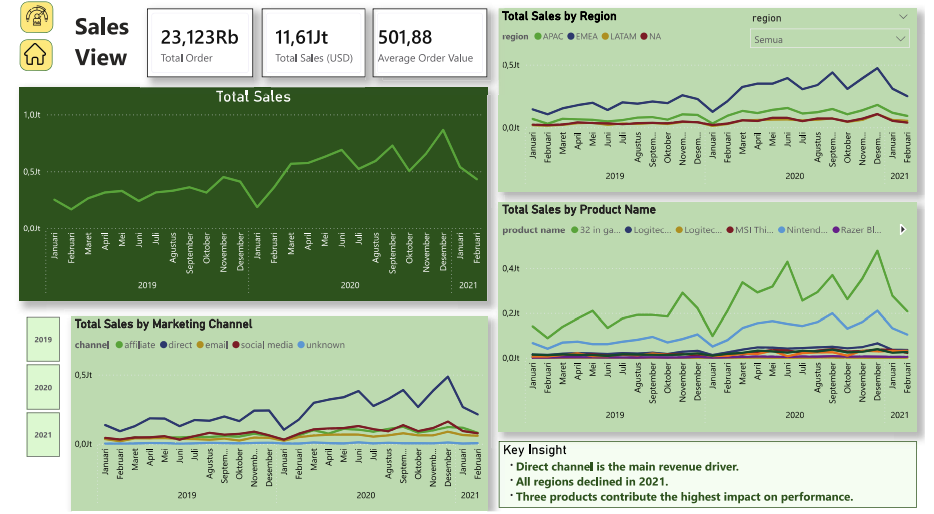

This screenshot's page, from the dashboard's own definition file:
{"tool":"powerbi","page":{"name":"Sales","canvas":[1280,720],"ordinal":1},"visuals":[{"type":"lineChart","title":"Total Sales","fields":{"Category":["orders_cleaned_.purchase_year","orders_cleaned_.purchase_date_cleaned.Variasi.Hierarki Tanggal.Bulan"],"Y":["Sum(orders_cleaned_.price ($))"]},"box":[16,128,652.8,299.2],"z":0},{"type":"shape","box":[17.1,8,46.4,43.8],"z":1000,"group":"g1"},{"type":"shape","box":[16,60.8,46.4,43.8],"z":1000,"group":"g2"},{"type":"lineChart","title":"Total Sales by Marketing Channel","fields":{"Category":["orders_cleaned_.purchase_year","orders_cleaned_.purchase_date_cleaned.Variasi.Hierarki Tanggal.Bulan"],"Y":["Sum(orders_cleaned_.price ($))"],"Series":["orders_cleaned_.channel_cleaned"]},"box":[88,448,580.8,272],"z":1000},{"type":"lineChart","title":"Total Sales by Region","fields":{"Category":["orders_cleaned_.purchase_year","orders_cleaned_.purchase_date_cleaned.Variasi.Hierarki Tanggal.Bulan"],"Y":["Sum(orders_cleaned_.price ($))"],"Series":["orders_cleaned_.region"]},"box":[684.8,17.6,584,256],"z":2000},{"type":"image","box":[14.4,12.7,51.2,30.3],"z":2003,"group":"g1"},{"type":"lineChart","title":"Total Sales by Product Name","fields":{"Category":["orders_cleaned_.purchase_year","orders_cleaned_.purchase_date_cleaned.Variasi.Hierarki Tanggal.Bulan"],"Y":["Sum(orders_cleaned_.price ($))"],"Series":["orders_cleaned_.product_name_cleaned"]},"box":[684.8,288,584,320],"z":3000},{"type":"cardVisual","fields":{"Data":["CountNonNull(orders_cleaned_.order_id)"]},"box":[193.6,17.6,148.8,96],"z":4000},{"type":"cardVisual","fields":{"Data":["Sum(orders_cleaned_.price ($))"]},"box":[353.6,17.6,145.6,96],"z":5000},{"type":"cardVisual","fields":{"Data":["Avg(orders_cleaned_.price ($))"]},"box":[508.8,17.6,160,96],"z":6000},{"type":"slicer","fields":{"Values":["orders_cleaned_.purchase_date_cleaned.Variasi.Hierarki Tanggal.Tahun"]},"box":[0,441.6,96,209.6],"z":7000},{"type":"slicer","fields":{"Values":["orders_cleaned_.region"]},"box":[1025.6,17.6,243.2,56],"z":8000},{"type":"textbox","box":[88,14.4,158.4,100.8],"z":9000},{"type":"group","id":"g1","title":"Grup 1","box":[14.4,8,49.6,49.6],"z":10000},{"type":"image","box":[23.2,63,29.3,36.6],"z":10002,"group":"g2"},{"type":"group","id":"g2","title":"Grup 1","box":[16,60.8,46.4,44.8],"z":11000},{"type":"textbox","title":"Key Insight","box":[684.8,622.4,584,92.8],"z":12000}]}

Visuals, with their boxes in screenshot pixels (x1, y1, x2, y2), scaled from the page's 1280x720 canvas onto the 934x514 screenshot:
"Total Sales" lineChart: bbox=[12, 91, 488, 305]
shape: bbox=[12, 6, 46, 37]
shape: bbox=[12, 43, 46, 75]
"Total Sales by Marketing Channel" lineChart: bbox=[64, 320, 488, 513]
"Total Sales by Region" lineChart: bbox=[500, 13, 926, 195]
image: bbox=[11, 9, 48, 31]
"Total Sales by Product Name" lineChart: bbox=[500, 206, 926, 434]
cardVisual - CountNonNull(orders_cleaned_.order_id): bbox=[141, 13, 250, 81]
cardVisual - Sum(orders_cleaned_.price ($)): bbox=[258, 13, 364, 81]
cardVisual - Avg(orders_cleaned_.price ($)): bbox=[371, 13, 488, 81]
slicer - orders_cleaned_.purchase_date_cleaned.Variasi.Hierarki Tanggal.Tahun: bbox=[0, 315, 70, 465]
slicer - orders_cleaned_.region: bbox=[748, 13, 926, 53]
textbox: bbox=[64, 10, 180, 82]
"Grup 1" group: bbox=[11, 6, 47, 41]
image: bbox=[17, 45, 38, 71]
"Grup 1" group: bbox=[12, 43, 46, 75]
"Key Insight" textbox: bbox=[500, 444, 926, 511]
